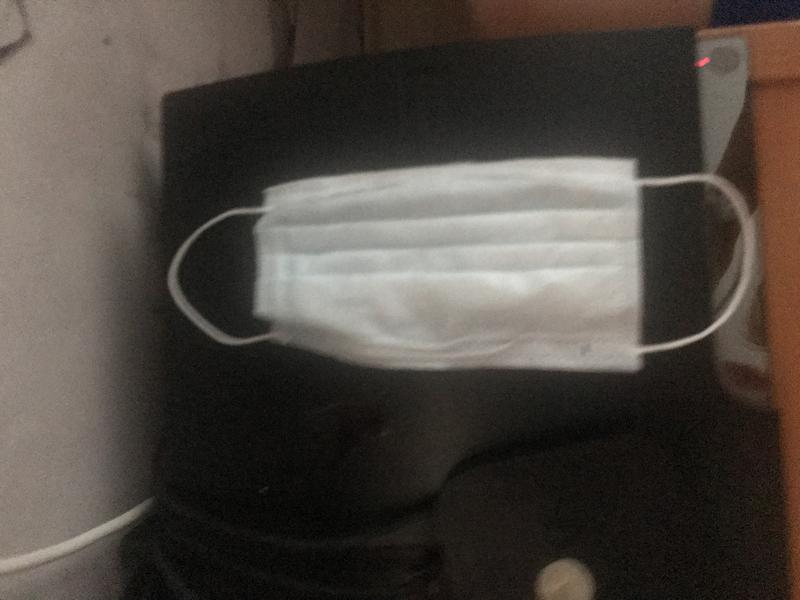medical_mask: (166, 161, 751, 371)
